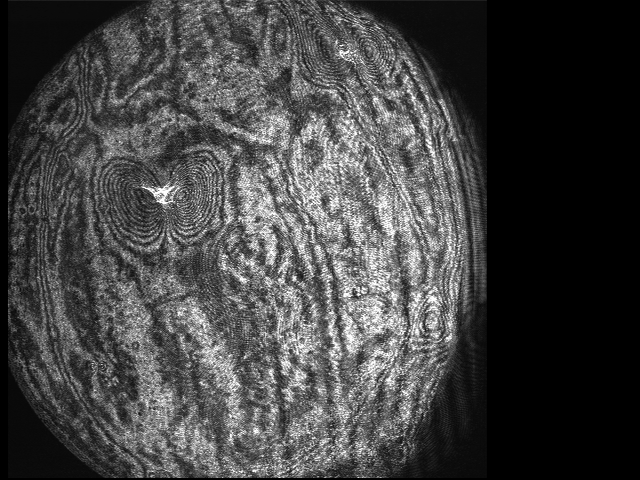plume: (98, 154, 225, 255)
